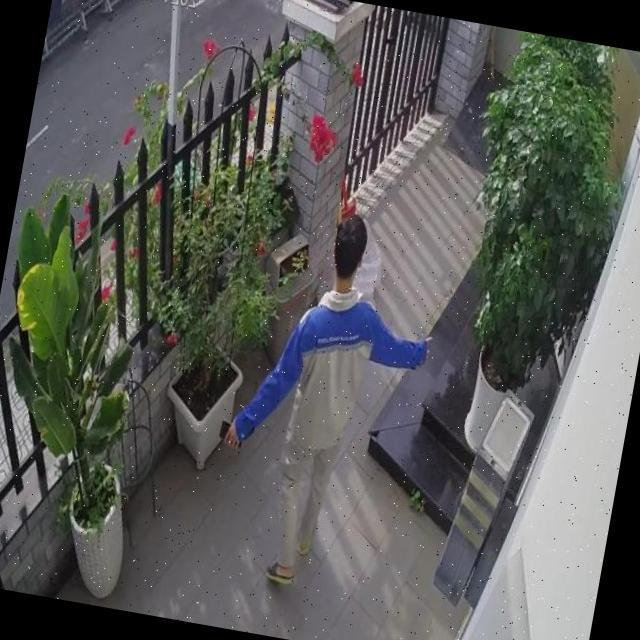person: (200, 194, 447, 606)
